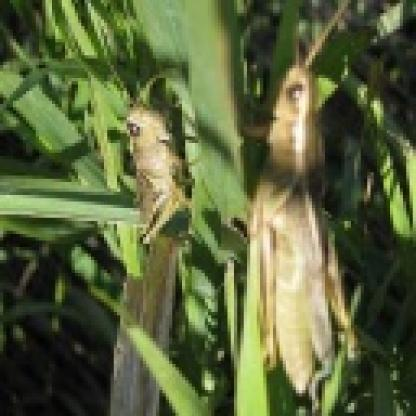grasshopper: (239, 8, 362, 393), (101, 82, 196, 416)
